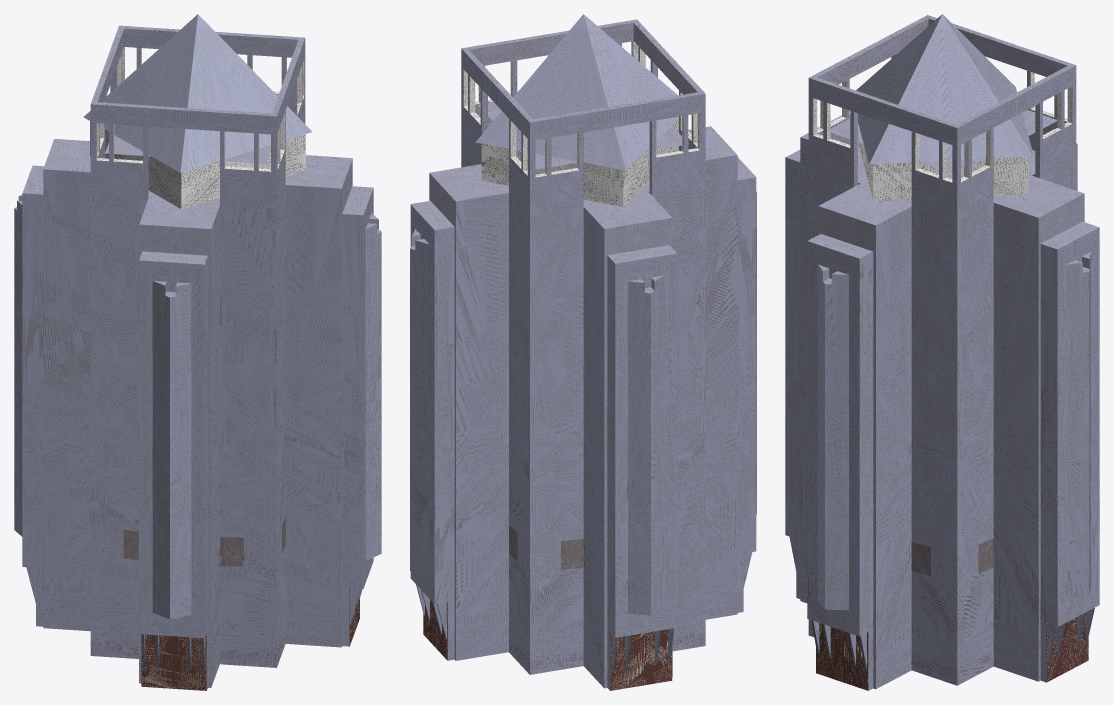
Rendered from weath.fbx.
The picture shows the model from 3 angles, left to right: view 1: azimuth 30°, elevation 25°; view 2: azimuth 150°, elevation 25°; view 3: azimuth 270°, elevation 25°; orthographic projection.
Visible parts, largest first — view 1: Group_1_5, Group_1_8, Group_1_6, Group_1_7, Group_1_2, Group_1_1, Group_1_4, Group_1_3; view 2: Group_1_4, Group_1_3, Group_1_7, Group_1_6, Group_1_1, Group_1_2, Group_1_5, Group_1_8; view 3: Group_1_2, Group_1_1, Group_1_8, Group_1_5, Group_1_3, Group_1_4, Group_1_6, Group_1_7.
Part boxes in pixels (box(x1,y1,x2,y2)): Group_1_5: box(170, 14, 276, 690); Group_1_8: box(198, 15, 381, 666); Group_1_6: box(90, 14, 197, 688); Group_1_7: box(14, 14, 197, 631); Group_1_2: box(285, 38, 380, 632); Group_1_1: box(216, 32, 304, 108); Group_1_4: box(15, 25, 124, 208); Group_1_3: box(120, 25, 179, 79); Group_1_4: box(530, 14, 650, 690); Group_1_3: box(410, 14, 583, 674); Group_1_7: box(584, 15, 705, 685); Group_1_6: box(584, 15, 756, 619); Group_1_1: box(410, 48, 501, 647); Group_1_2: box(462, 34, 551, 126); Group_1_5: box(633, 19, 743, 192); Group_1_8: box(549, 19, 636, 56); Group_1_2: box(825, 14, 957, 690); Group_1_1: box(942, 15, 1088, 685); Group_1_8: box(807, 15, 941, 681); Group_1_5: box(785, 15, 941, 603); Group_1_3: box(943, 15, 1099, 671); Group_1_4: box(943, 15, 1077, 190); Group_1_6: box(830, 15, 928, 184); Group_1_7: box(928, 15, 1001, 60).
Size of the model in its own units: 46.66 by 101 by 46.66.
